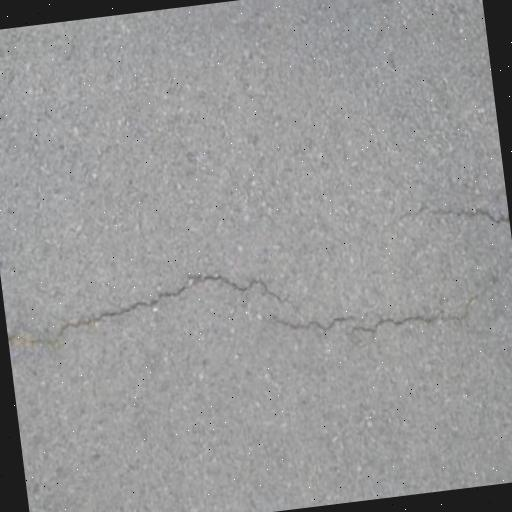spalling: (18, 260, 506, 370), (392, 197, 506, 243)
